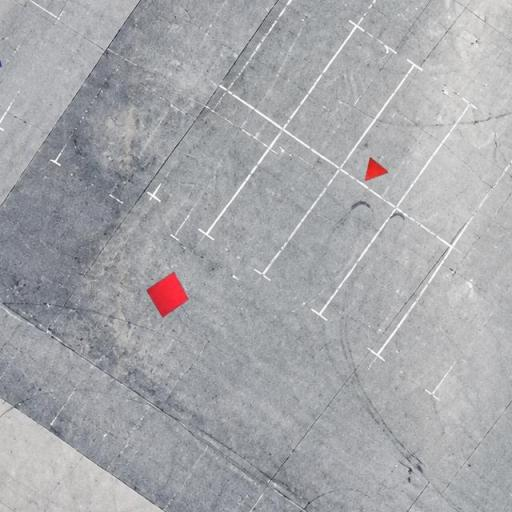RED_SQUARE: (146, 272, 188, 318)
